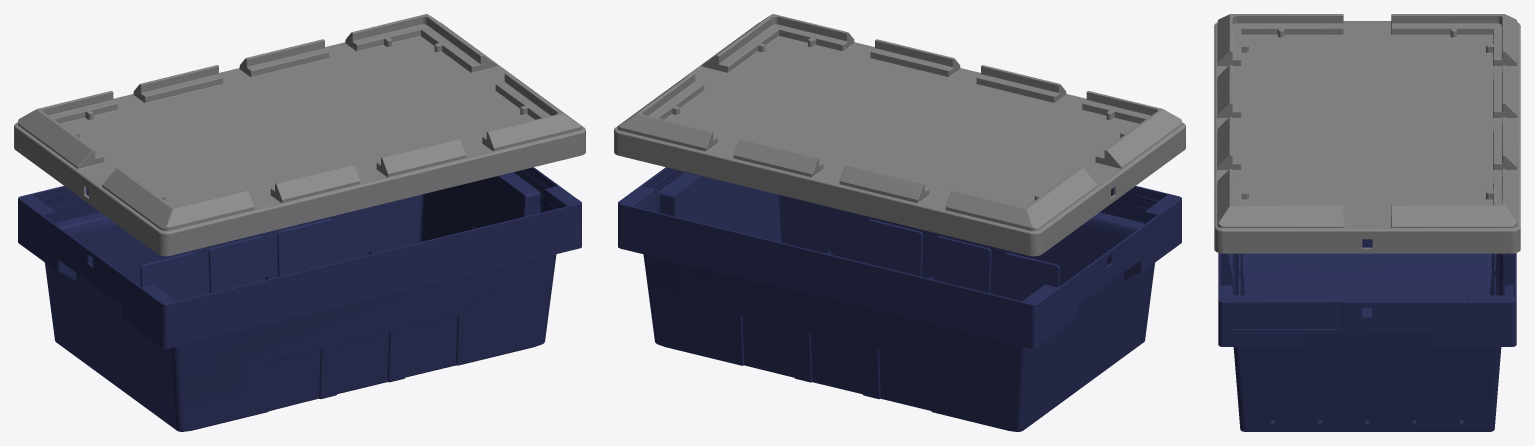
The model's file is pharmalink-caixa-pequena.glb.
The picture shows the model from 3 angles, left to right: view 1: azimuth 30°, elevation 25°; view 2: azimuth 150°, elevation 25°; view 3: azimuth 270°, elevation 25°; orthographic projection.
Parts seen in each view (by area): view 1: caixa, tampa; view 2: caixa, tampa; view 3: tampa, caixa.
Part boxes in pixels (box(x1,y1,x2,y2)): caixa: box(18, 167, 581, 431); tampa: box(14, 14, 585, 256); caixa: box(618, 167, 1181, 431); tampa: box(614, 14, 1185, 256); tampa: box(1214, 14, 1520, 253); caixa: box(1218, 239, 1516, 431).
Bounding box in the file's own units: 0.499 × 0.2588 × 0.308.
